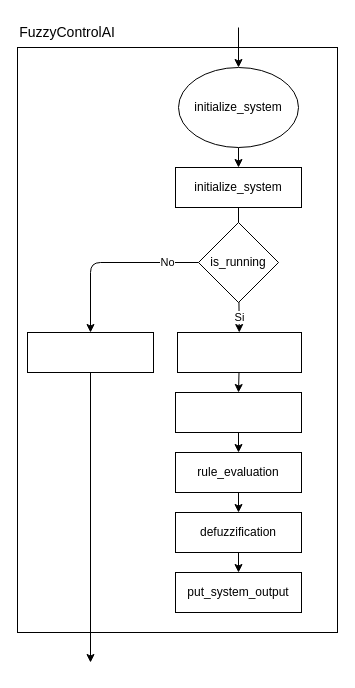
This 355x688 diagram has some shape labels left out. The box of each missing label's shape, as (x1, y1, x2, y2) in pixels:
finish_fuzzy_control: (26, 332, 154, 372)
fuzzification: (174, 392, 302, 432)
get_system_ inputs: (176, 332, 302, 372)
